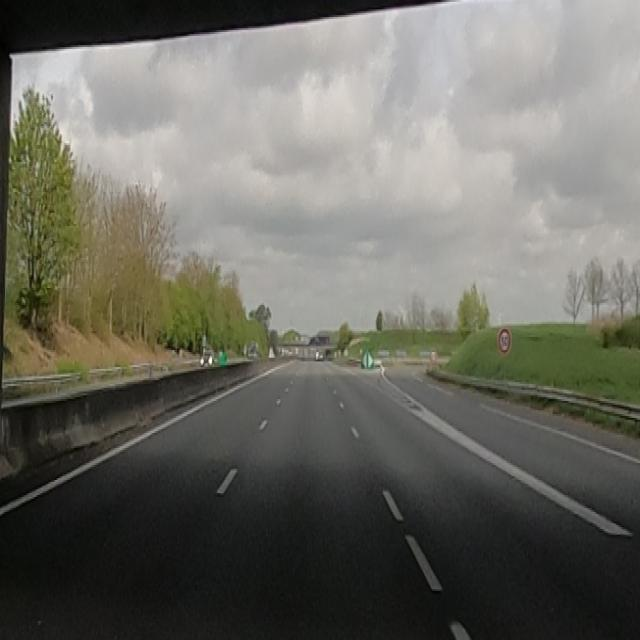speed_50: (498, 328, 511, 355)
